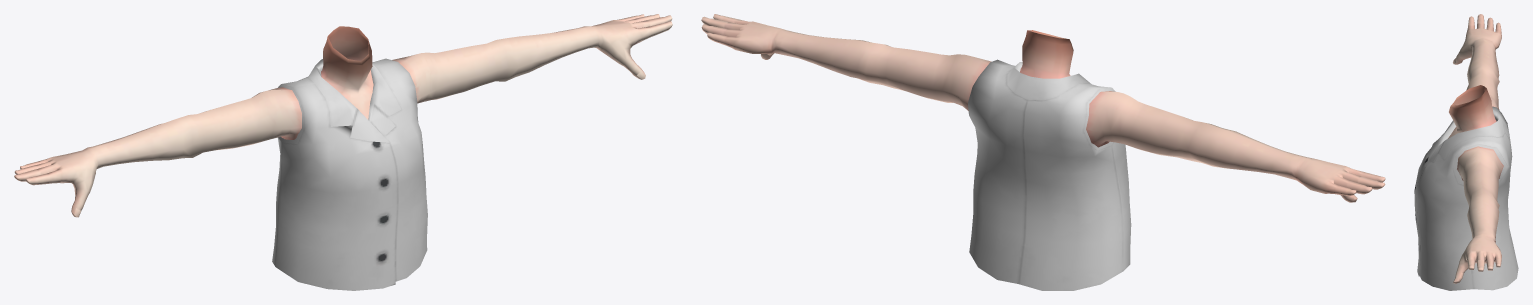
The model's file is tr0770_00_upb01.gltf.
3 renders of one model, left to right at view 1: azimuth 30°, elevation 25°; view 2: azimuth 150°, elevation 25°; view 3: azimuth 270°, elevation 25°, orthographic. The views are drawn at different scales.
Visible parts, largest first — view 1: upb01_upperbody_mesh_shape:upperbody01, upb01_upperskin_mesh_shape:upperbody01_skin; view 2: upb01_upperbody_mesh_shape:upperbody01, upb01_upperskin_mesh_shape:upperbody01_skin; view 3: upb01_upperbody_mesh_shape:upperbody01, upb01_upperskin_mesh_shape:upperbody01_skin.
Boxes of the visible parts, bbox=[...] form: upb01_upperbody_mesh_shape:upperbody01: bbox=[272, 58, 427, 290]; upb01_upperskin_mesh_shape:upperbody01_skin: bbox=[14, 14, 672, 217]; upb01_upperbody_mesh_shape:upperbody01: bbox=[968, 59, 1131, 290]; upb01_upperskin_mesh_shape:upperbody01_skin: bbox=[701, 14, 1385, 202]; upb01_upperbody_mesh_shape:upperbody01: bbox=[1414, 106, 1518, 290]; upb01_upperskin_mesh_shape:upperbody01_skin: bbox=[1447, 14, 1503, 283].
Size of what is drawn, in the model's own units: 1.63 by 0.5445 by 0.2805.
Materials: 2 (2 with a texture image).
